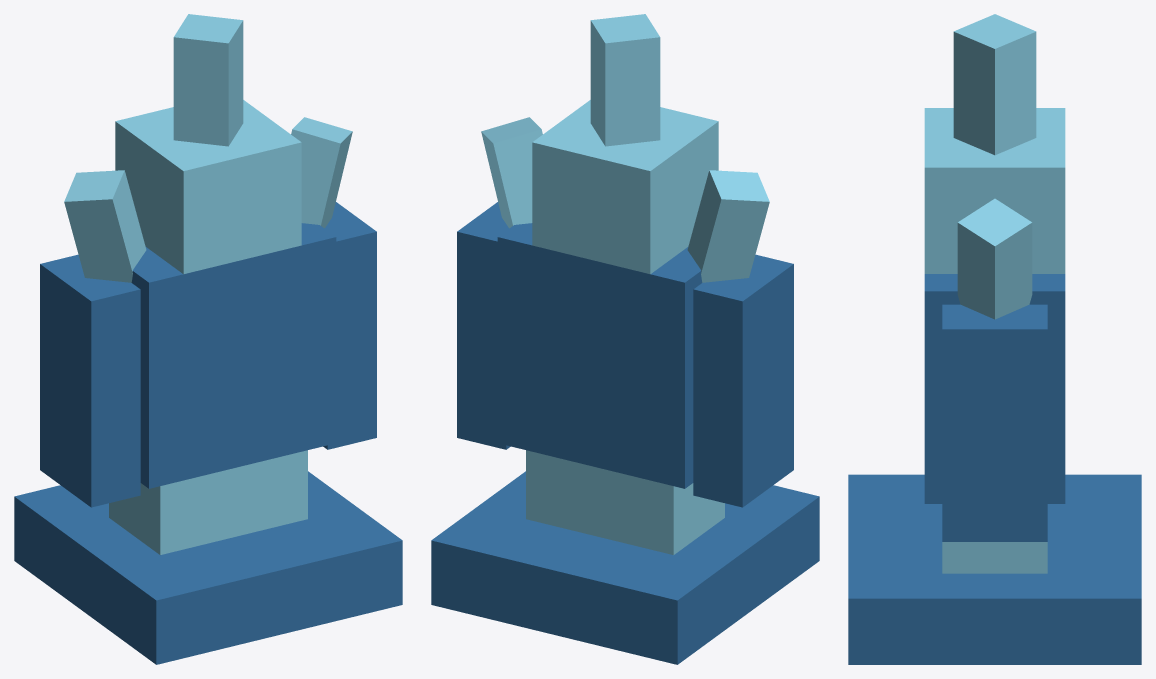
The model's file is ice_guardian.gltf.
3 views of the same model, side by side, from view 1: azimuth 30°, elevation 25°; view 2: azimuth 150°, elevation 25°; view 3: azimuth 270°, elevation 25° (orthographic). The views are drawn at different scales.
Parts seen in each view (by area): view 1: torso, base, head, arm_l, legs, arm_r, spike_c, spike_l, spike_r; view 2: torso, base, head, arm_l, legs, arm_r, spike_c, spike_l, spike_r; view 3: base, arm_r, head, spike_c, torso, spike_r, legs.
Boxes of the visible parts, <box> form: torso: <box>131,223,336,488</box>; base: <box>14,471,402,664</box>; head: <box>115,100,301,274</box>; arm_l: <box>40,254,140,507</box>; legs: <box>109,450,307,554</box>; arm_r: <box>323,202,376,449</box>; spike_c: <box>173,14,243,146</box>; spike_l: <box>64,170,146,282</box>; spike_r: <box>291,117,352,228</box>; torso: <box>497,223,702,488</box>; base: <box>431,471,819,664</box>; head: <box>532,100,718,274</box>; arm_l: <box>693,254,793,507</box>; legs: <box>526,450,724,554</box>; arm_r: <box>457,202,510,449</box>; spike_c: <box>590,14,660,146</box>; spike_l: <box>687,170,769,282</box>; spike_r: <box>481,117,542,228</box>; base: <box>848,474,1141,664</box>; arm_r: <box>942,304,1047,541</box>; head: <box>924,108,1065,273</box>; spike_c: <box>953,14,1036,155</box>; torso: <box>924,274,1065,503</box>; spike_r: <box>957,198,1032,319</box>; legs: <box>942,542,1047,573</box>.
Size of the model in its own units: 0.7326 by 1.34 by 0.625.
2 materials, 2 textured.
